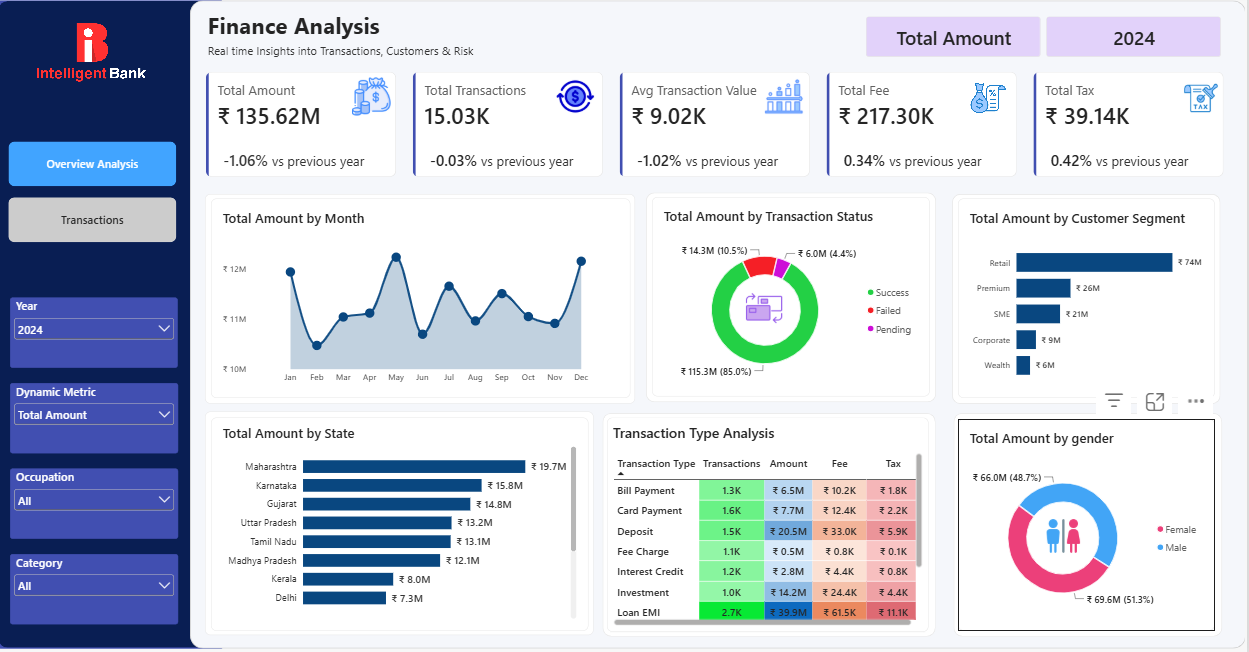

The page's visual inventory and layout, read from the dashboard file:
{"tool":"powerbi","page":{"name":"Overview Analysis","canvas":[1800,950],"ordinal":0},"visuals":[{"type":"shape","box":[12.5,10,322.5,927.5],"z":0},{"type":"shape","box":[287.6,10.7,1510.9,927.1],"z":1000},{"type":"image","box":[25.8,15,242.5,133.1],"z":2000},{"type":"slicer","fields":{"Values":["Calendar Table.Year"]},"box":[30,435.7,240,100.9],"z":3000},{"type":"cardVisual","fields":{"Data":["finance_transactions.Dashboard Title"]},"box":[309,10.7,428.3,95],"z":4000},{"type":"cardVisual","fields":{"Data":["Calendar Table.Total Amount","Calendar Table.Total Transactions","Calendar Table.Average Amount","Calendar Table.Total Fee","Calendar Table.Total Tax"]},"box":[309,111.6,1459.4,152.4],"z":5000,"group":"g1"},{"type":"group","id":"g1","title":"Group 1","box":[309,111.6,1459.4,152.4],"z":5000},{"type":"image","box":[1401.4,120.2,55.8,60.1],"z":6000,"group":"g1"},{"type":"slicer","fields":{"Values":["Dynamic Metric.Dynamic Metric"]},"box":[30,558,240.4,100.9],"z":6000},{"type":"cardVisual","fields":{"Data":["Calendar Table.Selected Dynamic Measure","Calendar Table.Selected Year"]},"box":[1252.5,32.5,510,60],"z":7000},{"type":"image","box":[1109.5,118.9,55,60],"z":7000,"group":"g1"},{"type":"image","box":[1704,120.2,60.1,60.1],"z":8000,"group":"g1"},{"type":"shape","box":[939.3,284.7,415,300],"z":8000},{"type":"image","box":[811.2,118.9,55,60],"z":9000,"group":"g1"},{"type":"shape","box":[310,287,615,300],"z":9000},{"type":"image","box":[519.3,118.9,55,60],"z":10000,"group":"g1"},{"type":"areaChart","fields":{"Category":["Calendar Table.Month"],"Y":["Calendar Table.Total Amount"]},"box":[317.8,294.4,600,285.6],"z":10000},{"type":"shape","box":[1377.8,287.6,384.2,300.5],"z":11000},{"type":"donutChart","fields":{"Category":["finance_transactions.transaction_status"],"Y":["Calendar Table.Total Amount"]},"box":[947.9,291.1,397,285.4],"z":12000},{"type":"barChart","fields":{"Category":["customers.customer_segment"],"Y":["Calendar Table.Total Amount"]},"box":[1386.4,294,367,285.4],"z":13000},{"type":"shape","box":[309.8,599.2,556.2,320],"z":14000},{"type":"shape","box":[878.3,600,476.7,320],"z":15000},{"type":"tableEx","title":"Transaction Type Analysis","fields":{"Values":["finance_transactions.transaction_type","Calendar Table.Total Transactions","Calendar Table.Total Amount","Calendar Table.Total Fee","Calendar Table.Total Tax"]},"box":[885,606.7,460,306.7],"z":16000},{"type":"barChart","fields":{"Category":["customers.state"],"Y":["Calendar Table.Total Amount"]},"box":[317.3,606.7,540,305.1],"z":17000},{"type":"shape","box":[1380,600,384.4,320],"z":18000},{"type":"donutChart","fields":{"Category":["customers.gender"],"Y":["Calendar Table.Total Amount"]},"box":[1386.2,608.8,367.5,302.5],"z":19000},{"type":"image","box":[1082,424,54,52],"z":20000},{"type":"image","box":[1511.4,751.4,52.9,51.4],"z":21000},{"type":"slicer","fields":{"Values":["customers.occupation"]},"box":[30,680.3,240.4,100.9],"z":22000},{"type":"slicer","fields":{"Values":["finance_transactions.merchant_category"]},"box":[30,802.7,240.4,100.9],"z":23000},{"type":"pageNavigator","box":[27.9,212.5,240.4,145.9],"z":23001}]}

Visuals, with their boxes on the page's 1800x950 design canvas (x1, y1, x2, y2). These are canvas units, not pixel positions in the 1249x652 screenshot, which may show the page scaled, cropped or inside an application window:
shape: (left=12, top=10, right=335, bottom=938)
shape: (left=288, top=11, right=1798, bottom=938)
image: (left=26, top=15, right=268, bottom=148)
slicer - Calendar Table.Year: (left=30, top=436, right=270, bottom=537)
cardVisual - finance_transactions.Dashboard Title: (left=309, top=11, right=737, bottom=106)
cardVisual - Calendar Table.Total Amount x Calendar Table.Total Transactions: (left=309, top=112, right=1768, bottom=264)
"Group 1" group: (left=309, top=112, right=1768, bottom=264)
image: (left=1401, top=120, right=1457, bottom=180)
slicer - Dynamic Metric.Dynamic Metric: (left=30, top=558, right=270, bottom=659)
cardVisual - Calendar Table.Selected Dynamic Measure x Calendar Table.Selected Year: (left=1252, top=32, right=1762, bottom=92)
image: (left=1110, top=119, right=1164, bottom=179)
image: (left=1704, top=120, right=1764, bottom=180)
shape: (left=939, top=285, right=1354, bottom=585)
image: (left=811, top=119, right=866, bottom=179)
shape: (left=310, top=287, right=925, bottom=587)
image: (left=519, top=119, right=574, bottom=179)
areaChart - Calendar Table.Month x Calendar Table.Total Amount: (left=318, top=294, right=918, bottom=580)
shape: (left=1378, top=288, right=1762, bottom=588)
donutChart - finance_transactions.transaction_status x Calendar Table.Total Amount: (left=948, top=291, right=1345, bottom=576)
barChart - customers.customer_segment x Calendar Table.Total Amount: (left=1386, top=294, right=1753, bottom=579)
shape: (left=310, top=599, right=866, bottom=919)
shape: (left=878, top=600, right=1355, bottom=920)
"Transaction Type Analysis" tableEx: (left=885, top=607, right=1345, bottom=913)
barChart - customers.state x Calendar Table.Total Amount: (left=317, top=607, right=857, bottom=912)
shape: (left=1380, top=600, right=1764, bottom=920)
donutChart - customers.gender x Calendar Table.Total Amount: (left=1386, top=609, right=1754, bottom=911)
image: (left=1082, top=424, right=1136, bottom=476)
image: (left=1511, top=751, right=1564, bottom=803)
slicer - customers.occupation: (left=30, top=680, right=270, bottom=781)
slicer - finance_transactions.merchant_category: (left=30, top=803, right=270, bottom=904)
pageNavigator: (left=28, top=212, right=268, bottom=358)
